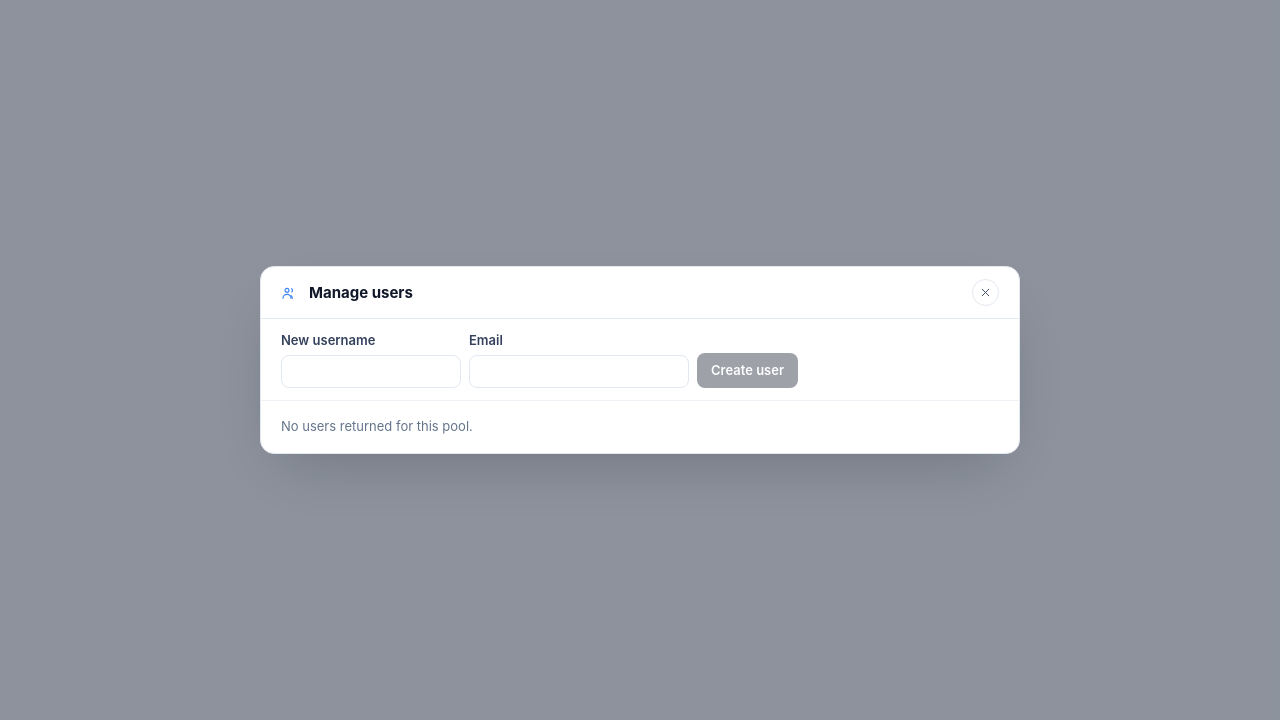
Test case: AdminPanel › keeps create disabled until both fields are filled
Expected: the button "Create user" is disabled, [697,353,798,388]
Type "newbie" into the field labelled "New username".
click(371, 372); type("newbie")  # box [281,355,461,388]
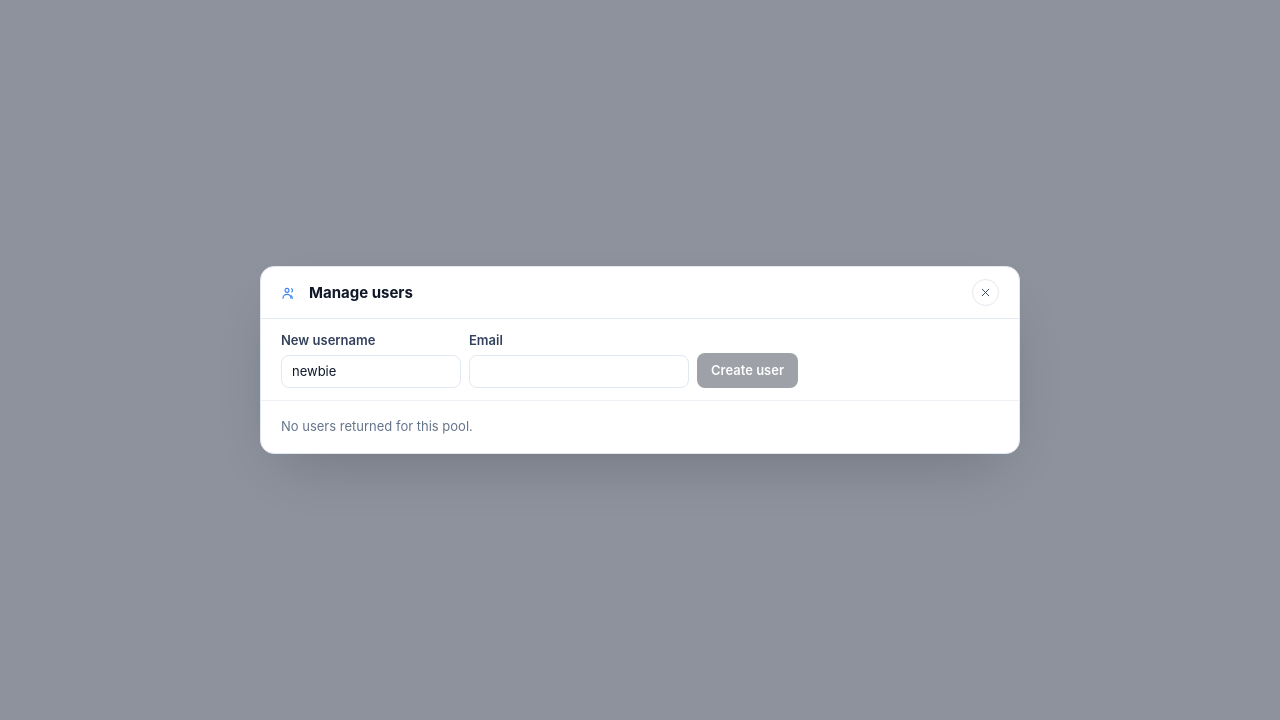
Expected: the button "Create user" is disabled, [697,353,798,388]
Type "n@example.test" into the field labelled "Email".
click(579, 372); type("n@example.test")  # box [469,355,689,388]
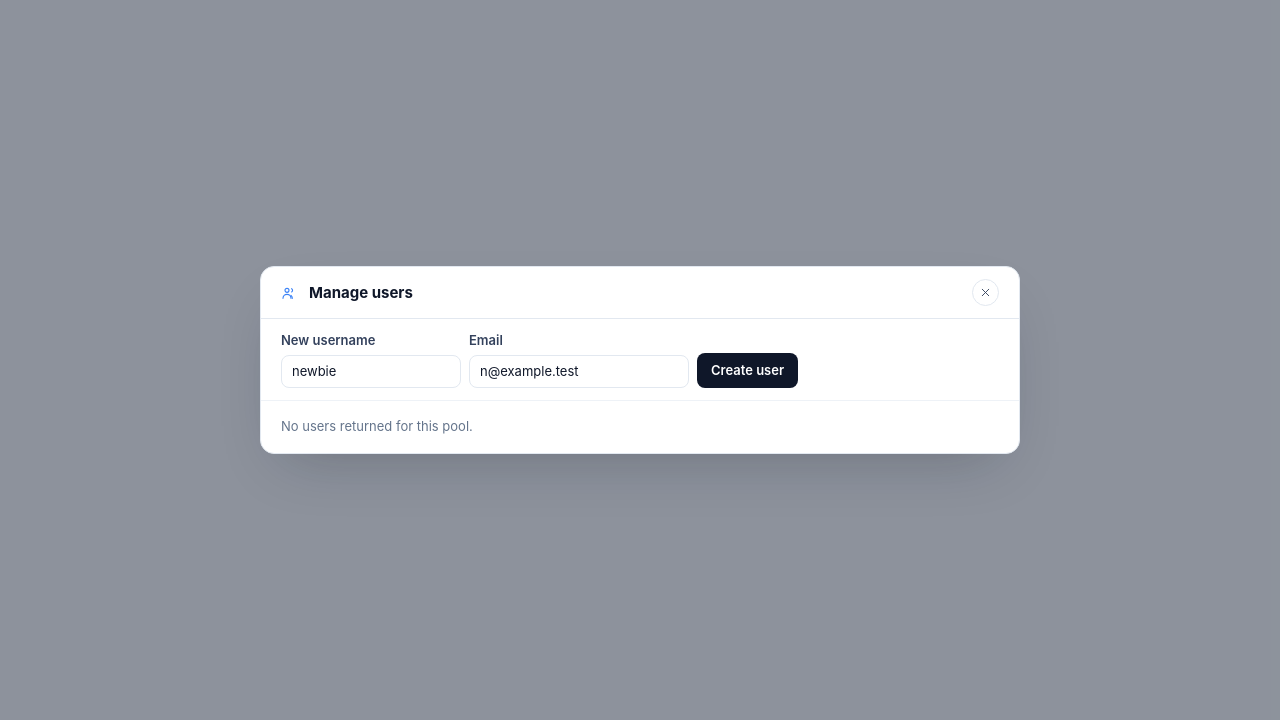
Expected: the button "Create user" is enabled, [697,353,798,388]
